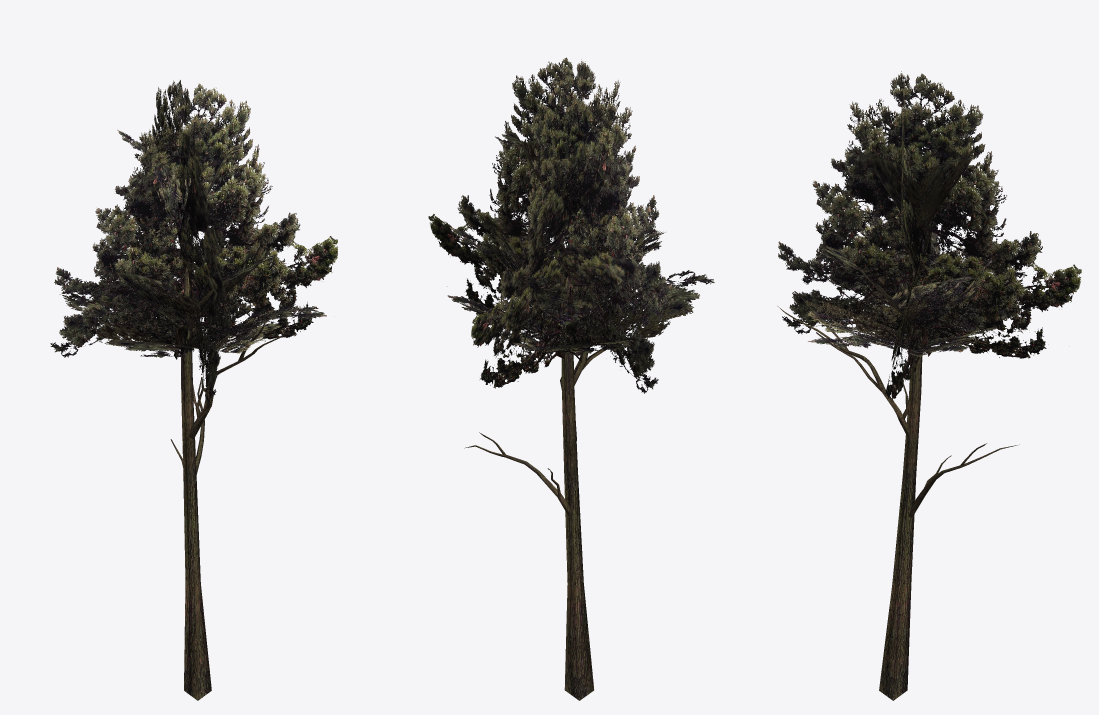
The model's file is ADDON_VALLEYPLANT_TREE_01_XL_357P.glb.
3 renders of one model, left to right at view 1: azimuth 30°, elevation 25°; view 2: azimuth 150°, elevation 25°; view 3: azimuth 270°, elevation 25°, orthographic. The views are drawn at different scales.
Parts seen in each view (by area): view 1: Mesh; view 2: Mesh; view 3: Mesh.
Boxes of the visible parts, x1,y1,x2,y2 form: Mesh: (50, 80, 337, 700); Mesh: (428, 57, 714, 700); Mesh: (777, 71, 1081, 700).
Bounding box in the file's own units: 12.21 × 27.15 × 12.25.
Materials: 3 (3 with a texture image).
